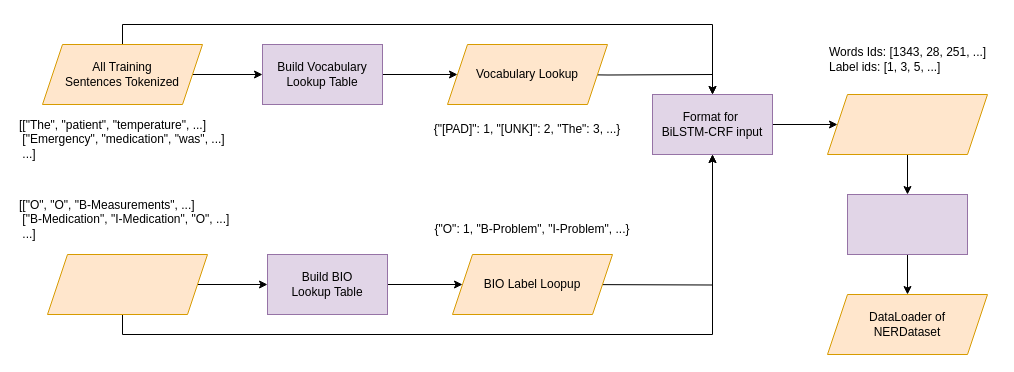
Image size: 1014x372. Some labels were removed from this diagram. Each missing label, with the centre of its shape:
All Training Labels Tokenized: (x=127, y=284)
Batching Create padding and masks: (x=907, y=224)
NERDataset: (x=907, y=124)
